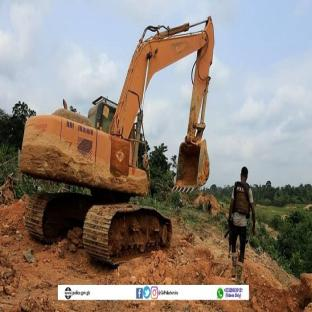ExcavationMachinery: (17, 14, 232, 273)
